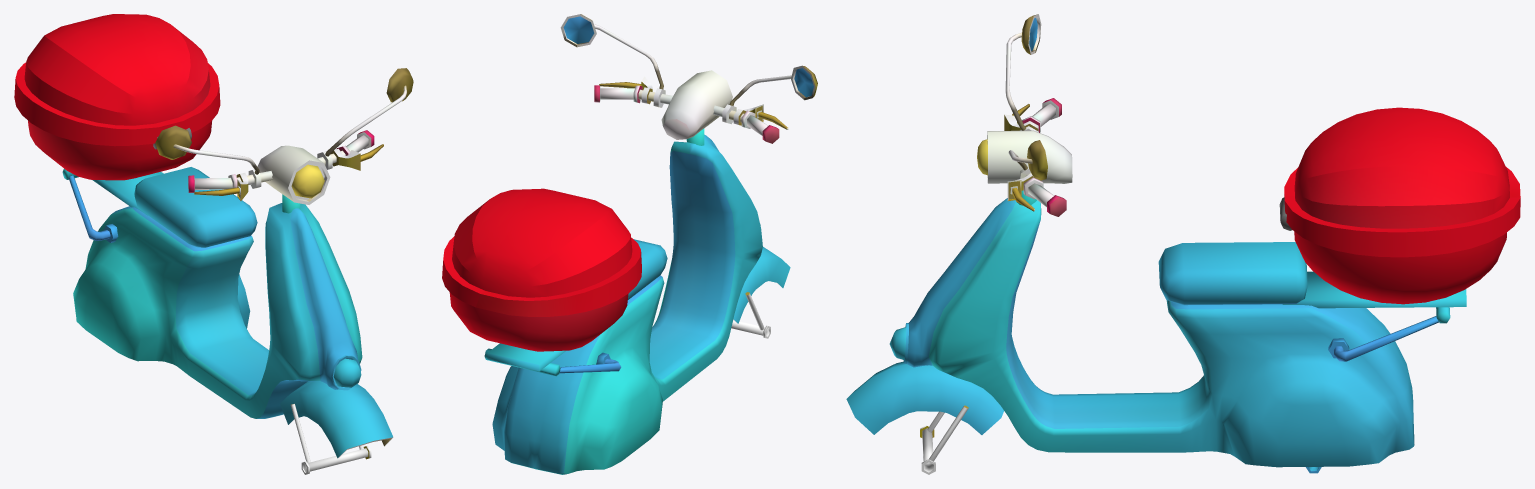
Rendered from Motorcycle_Chassis_1.fbx.
3 renders of one model, left to right at view 1: azimuth 30°, elevation 25°; view 2: azimuth 150°, elevation 25°; view 3: azimuth 270°, elevation 25°, orthographic. The views are drawn at different scales.
Visible parts, largest first — view 1: Motorcycle_Chassis_1; view 2: Motorcycle_Chassis_1; view 3: Motorcycle_Chassis_1.
Part boxes in pixels (<box>): Motorcycle_Chassis_1: <box>14,14,413,474</box>; Motorcycle_Chassis_1: <box>442,14,817,474</box>; Motorcycle_Chassis_1: <box>846,14,1520,474</box>.
Bounding box in the file's own units: 107 × 132 × 213.
1 material, 1 textured.
